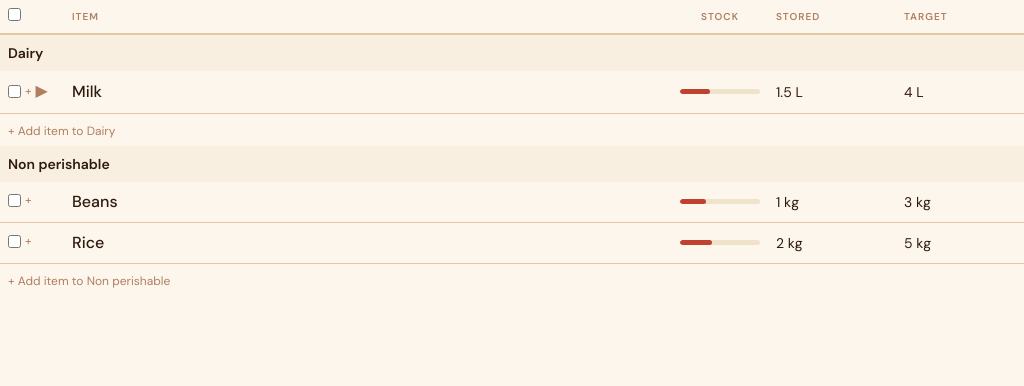
Test: InventoryTable › category combobox › clicking a dropdown suggestion updates the category field
This screenshot has width=1024, height=386.
Click the text "Rice". click: (88, 242)
box: [72,232,104,252]
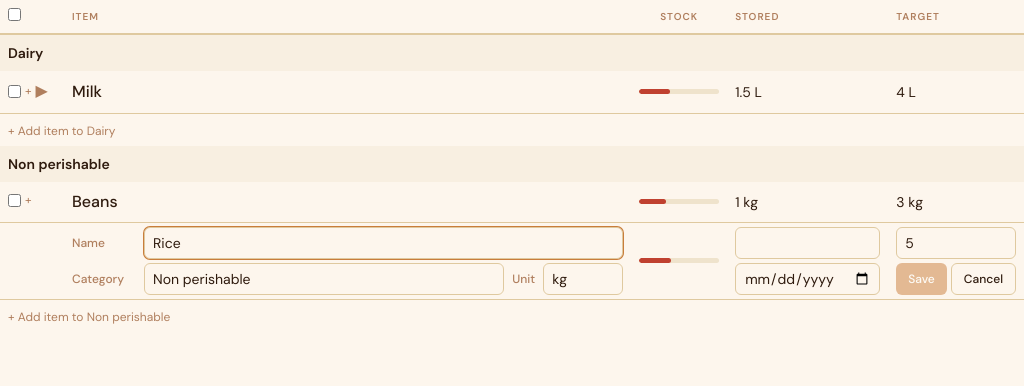
Click the field named "Category". click: (324, 278)
box: [144,262,504,294]
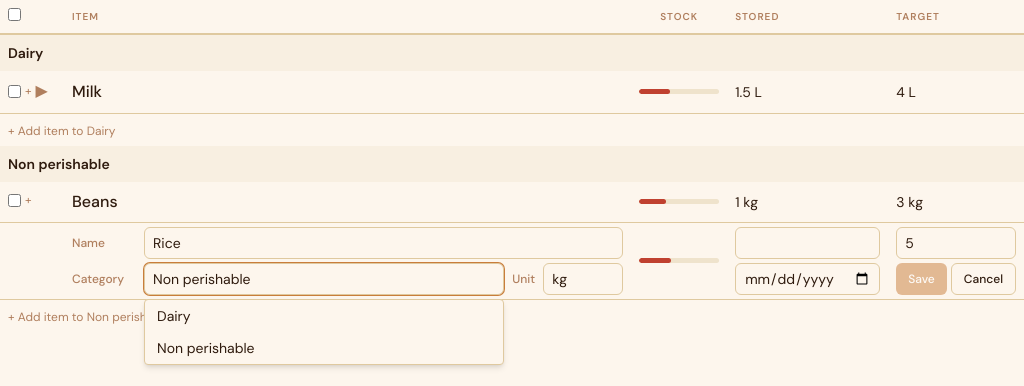
Click the option "Dairy". click: (174, 316)
box: [157,306,191,324]
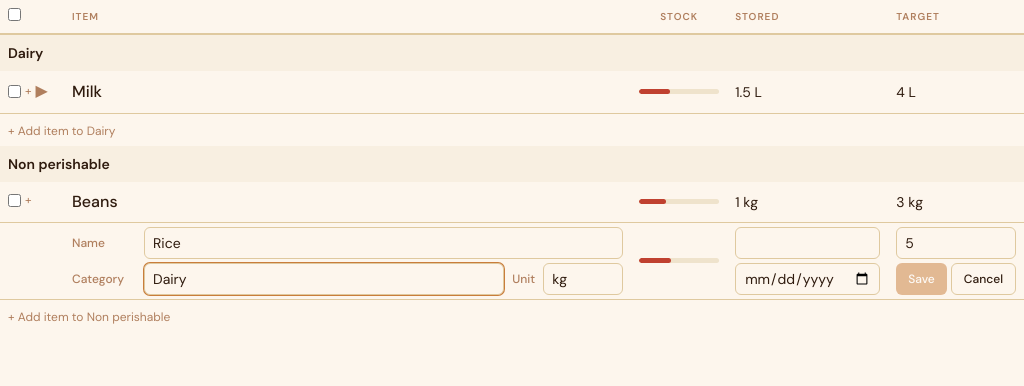
Expected: the field named "Category" holds "Dairy", [144,262,504,294]
